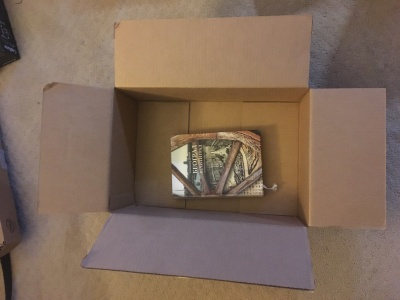innerbox: (114, 90, 306, 223)
outerbox: (41, 19, 388, 288)
product: (169, 133, 265, 197)
